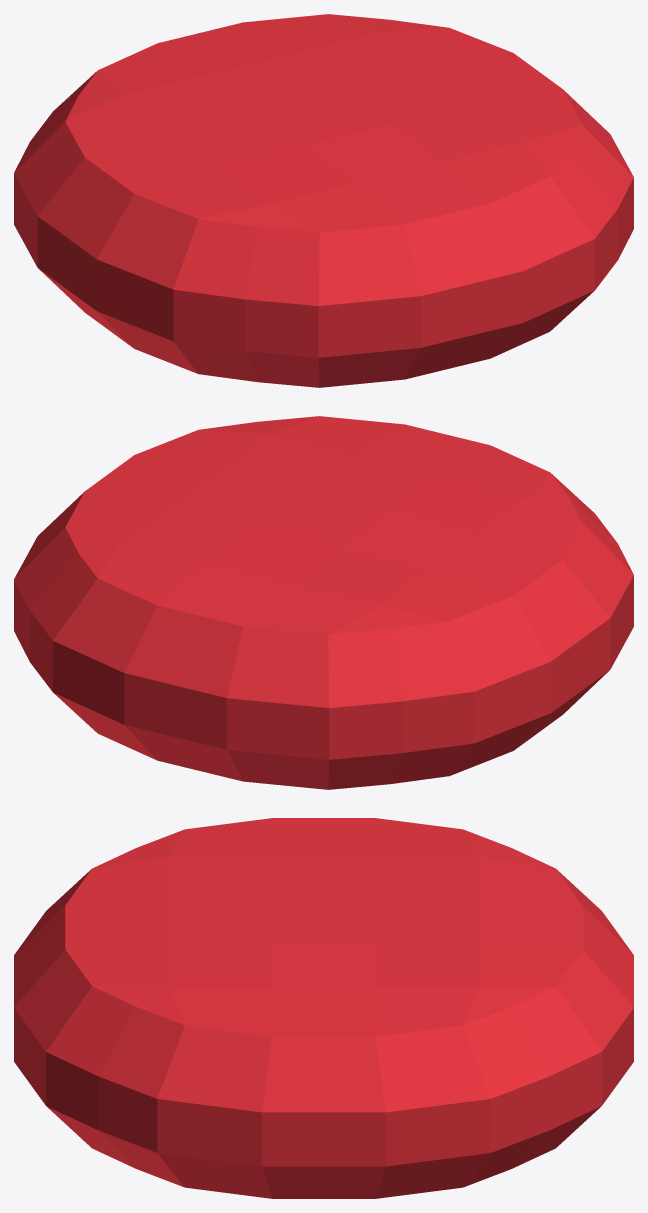
File: mincedMeat.fbx
3 views of the same model, one above another, from view 1: azimuth 30°, elevation 25°; view 2: azimuth 150°, elevation 25°; view 3: azimuth 270°, elevation 25° (orthographic). The views are drawn at different scales.
Parts seen in each view (by area): view 1: Cube; view 2: Cube; view 3: Cube.
Boxes of the visible parts, x1,y1,x2,y2 form: Cube: (14,14,633,387); Cube: (14,416,633,789); Cube: (14,818,633,1198).
Bounding box in the file's own units: 66.14 × 66.14 × 20.62.
